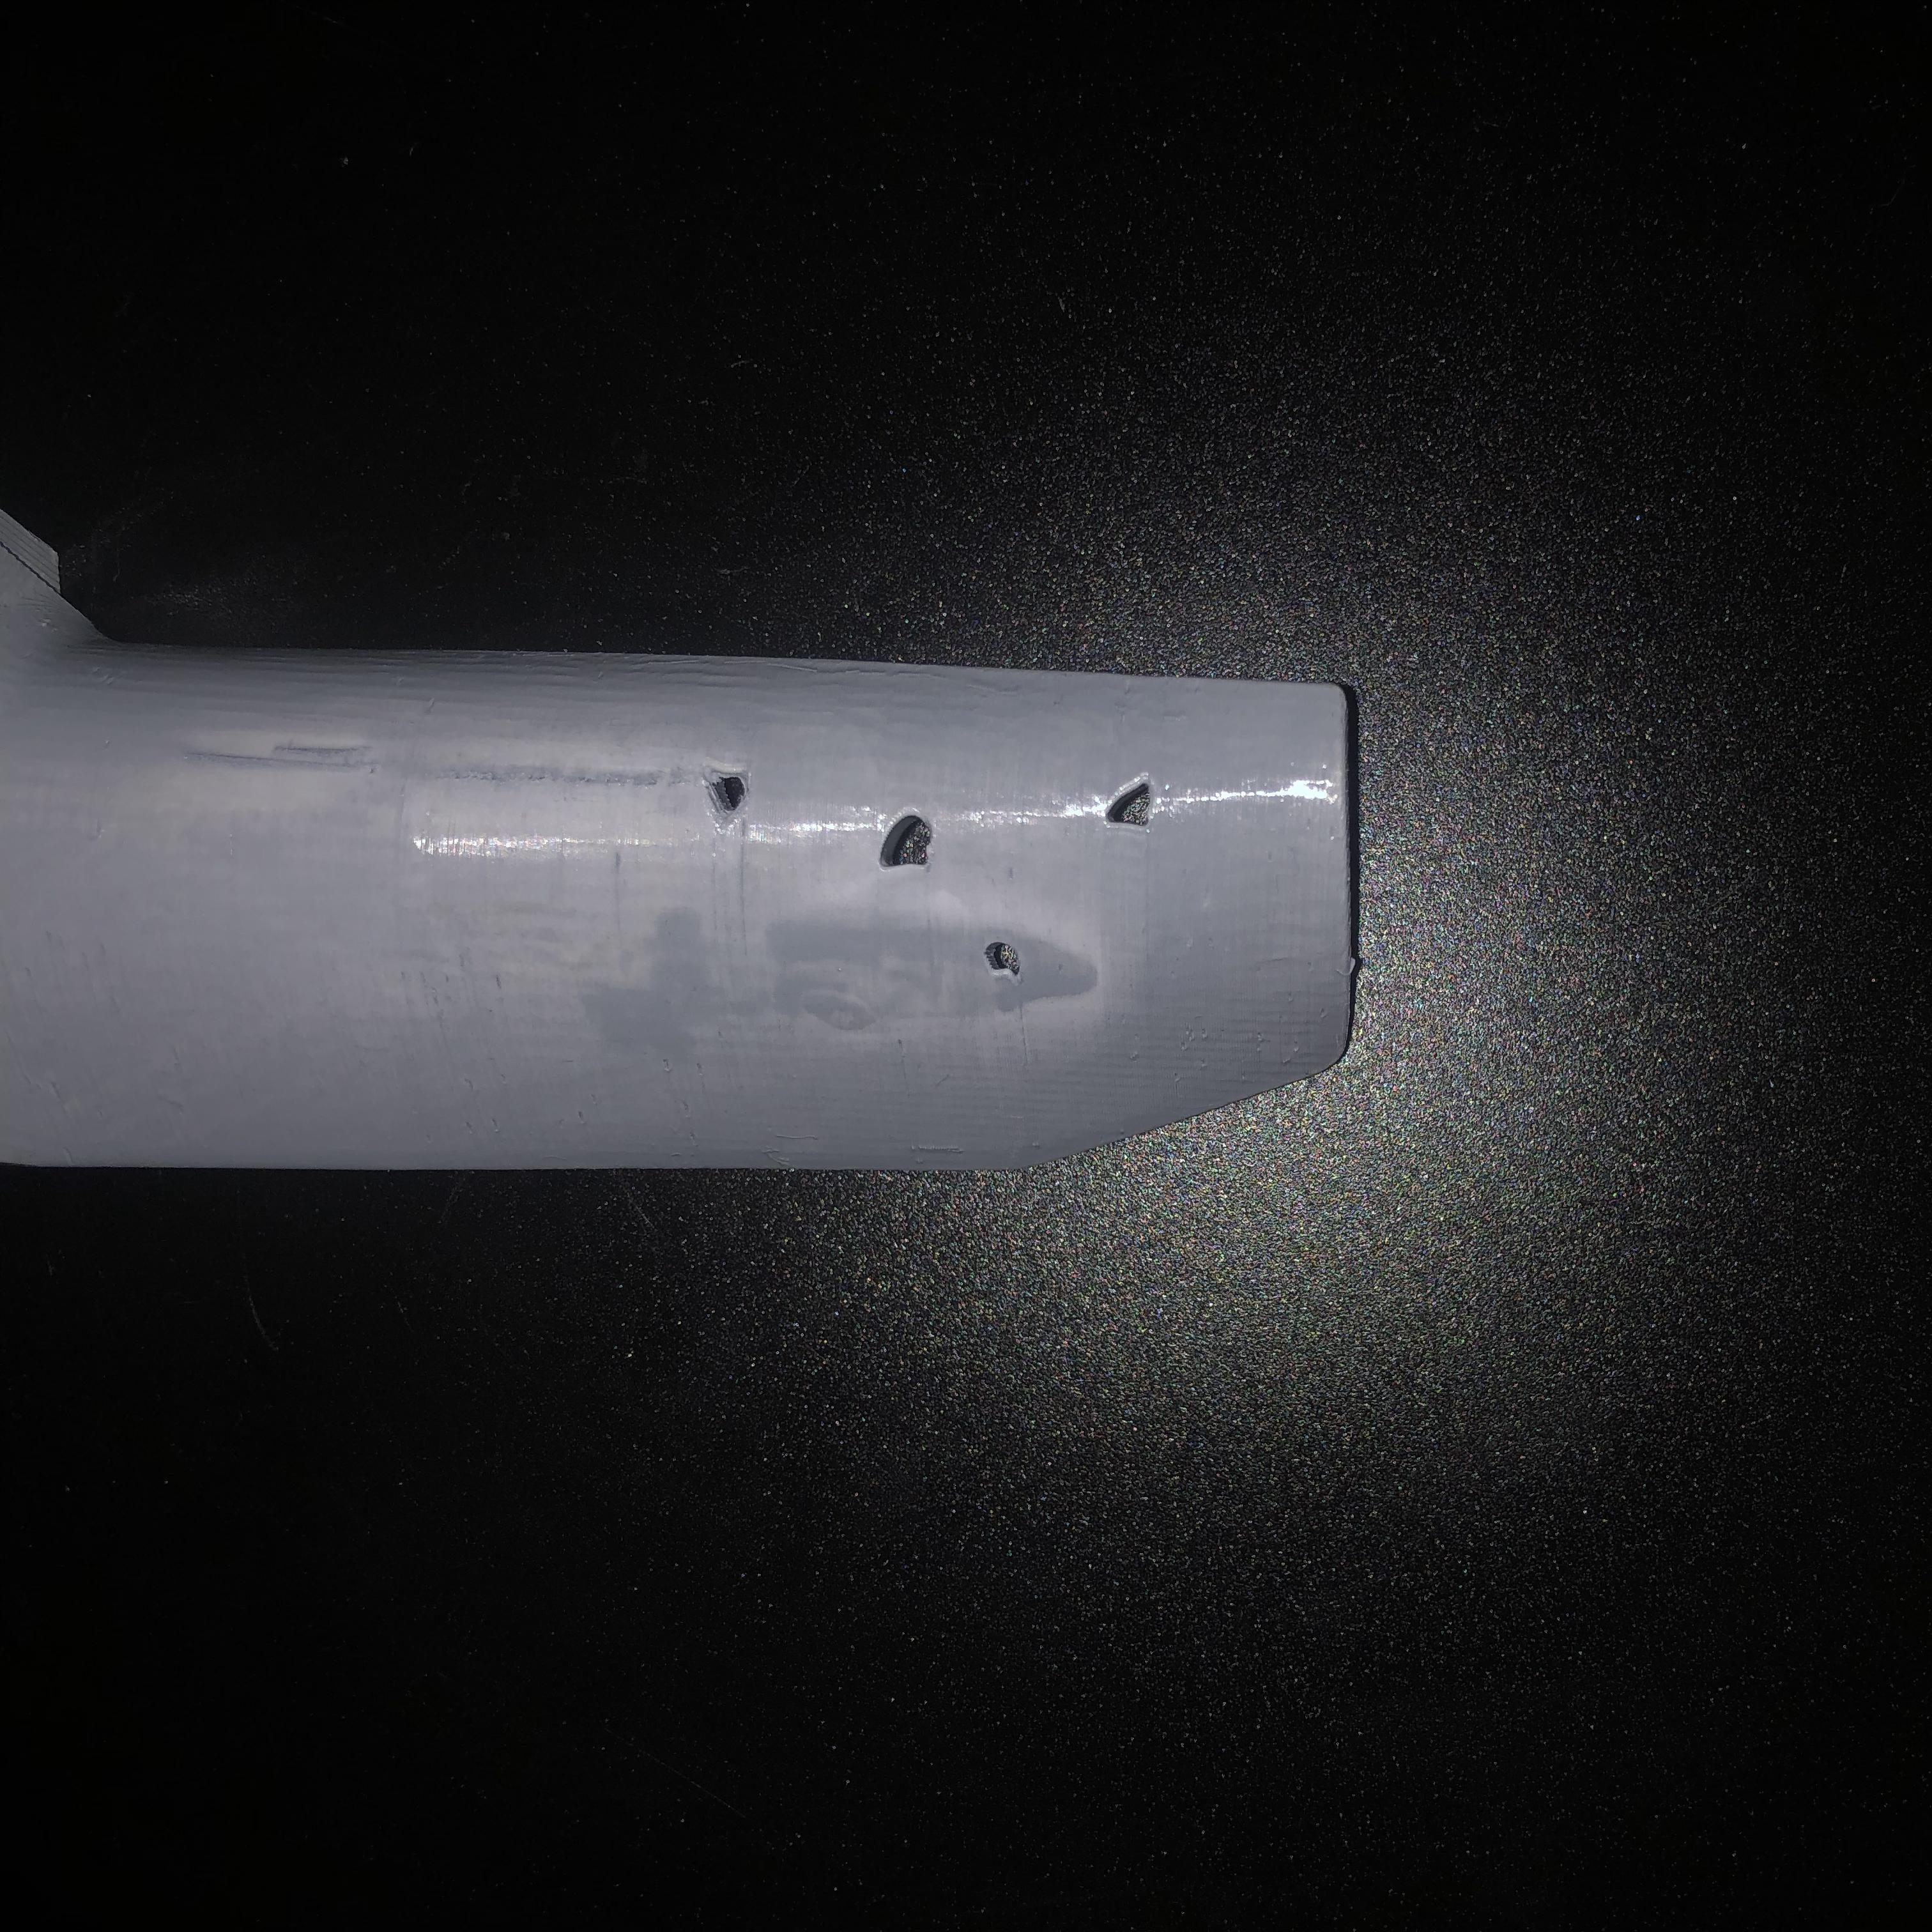breakdown: (701, 754, 1166, 1000)
